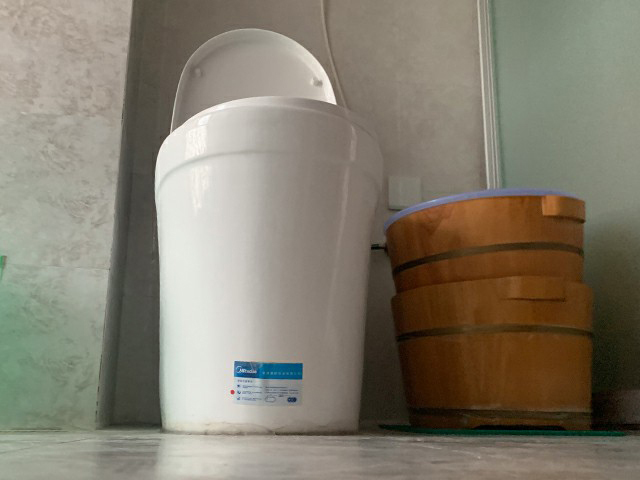closestool: (153, 27, 385, 436)
